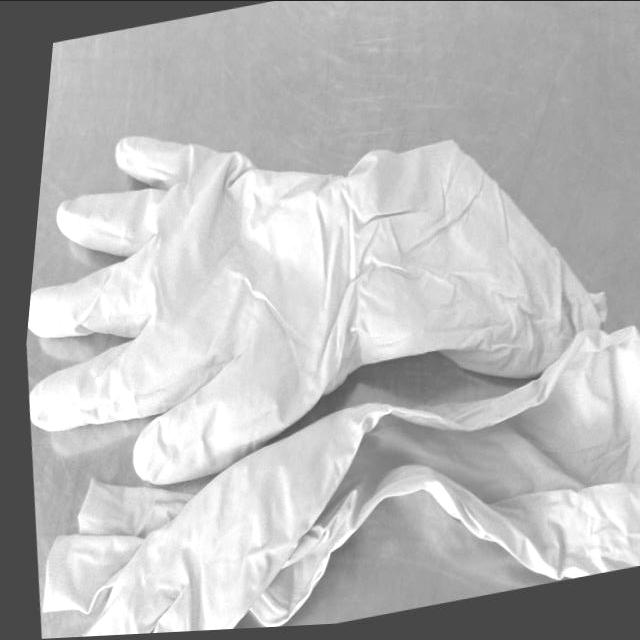Infectious: (25, 135, 608, 487), (41, 325, 638, 637)
